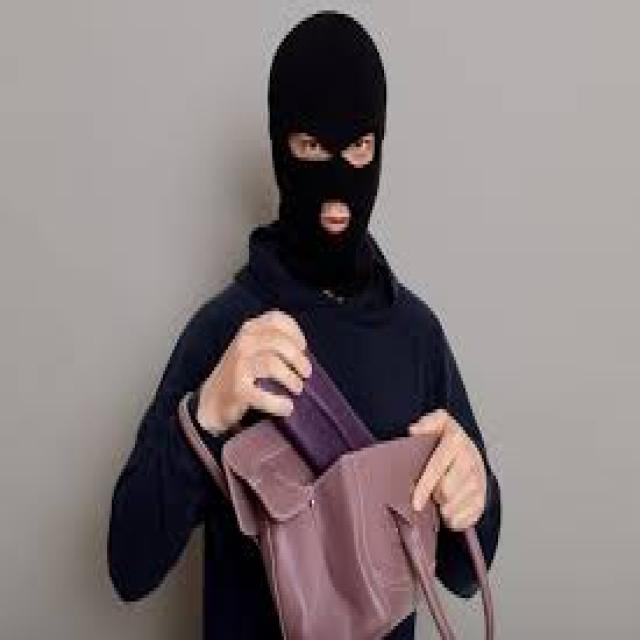person-with-mask: (53, 0, 606, 640)
